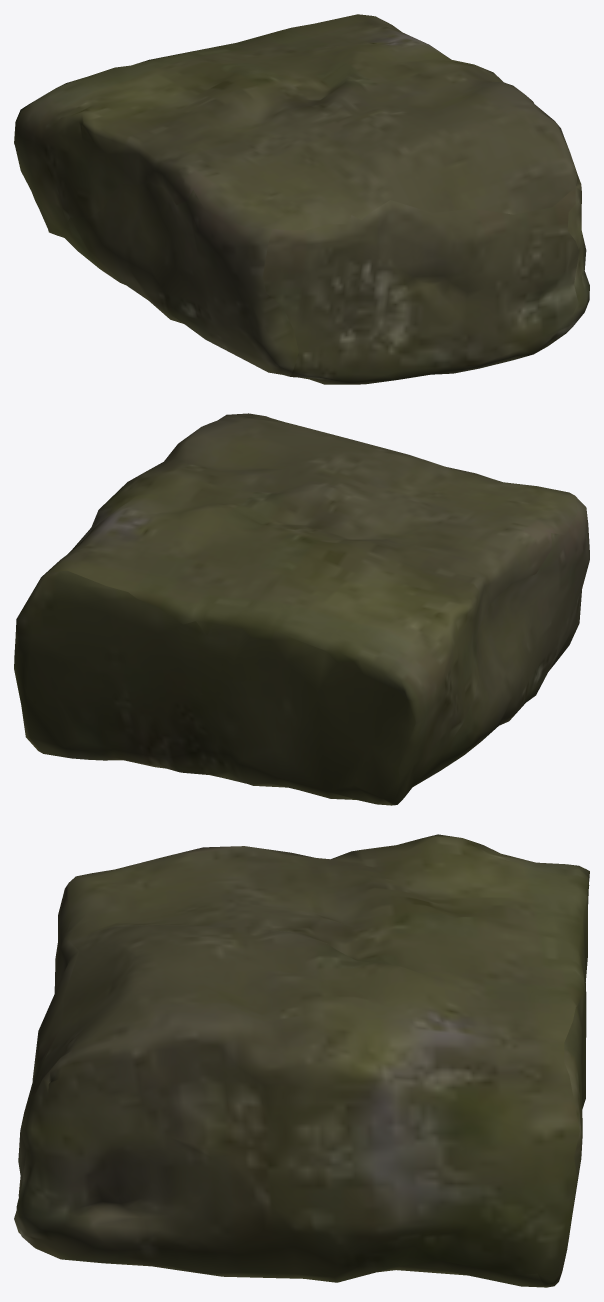
Rendered from Ruins_Rubble_D-transformed.glb.
3 views of the same model, one above another, from view 1: azimuth 30°, elevation 25°; view 2: azimuth 150°, elevation 25°; view 3: azimuth 270°, elevation 25° (orthographic). The views are drawn at different scales.
Visible parts, largest first — view 1: Ruins_Rubble_D; view 2: Ruins_Rubble_D; view 3: Ruins_Rubble_D.
Boxes of the visible parts, left/top/right/bottom form: Ruins_Rubble_D: left=14, top=14, right=589, bottom=384; Ruins_Rubble_D: left=14, top=413, right=589, bottom=805; Ruins_Rubble_D: left=14, top=834, right=589, bottom=1287.
Bounding box in the file's own units: 1.25 × 0.6221 × 1.25.
Materials: 1 (1 with a texture image).
